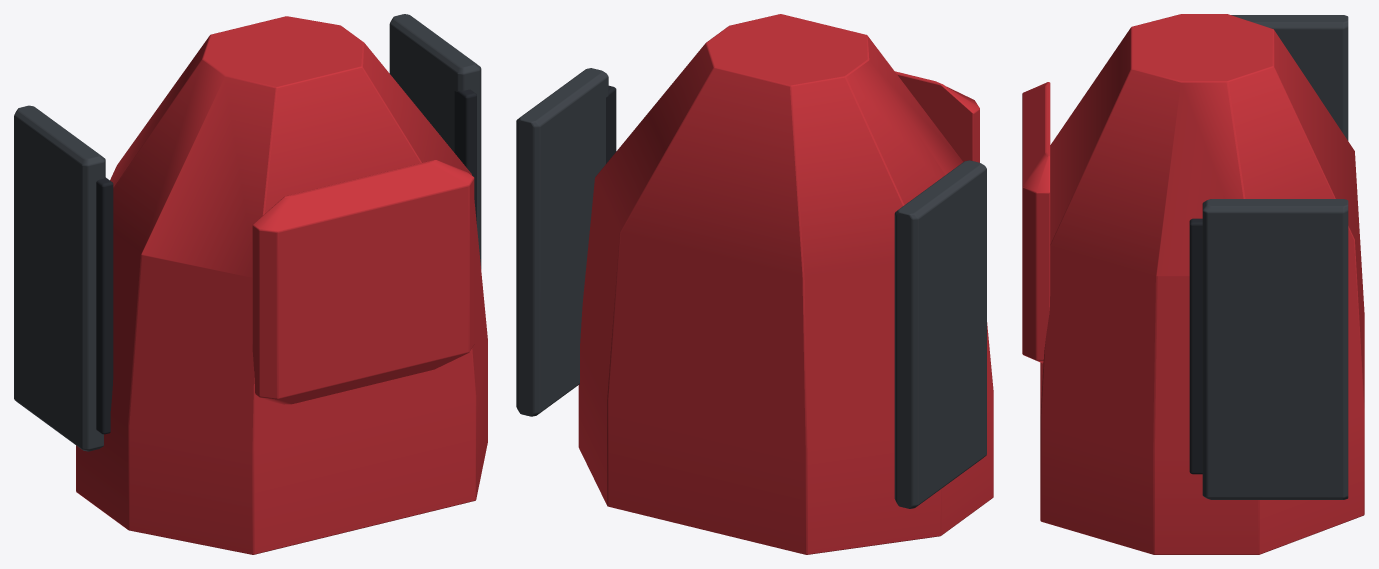
File: QuadBodyBack_Set08_Goliath.fbx
3 renders of one model, left to right at view 1: azimuth 30°, elevation 25°; view 2: azimuth 150°, elevation 25°; view 3: azimuth 270°, elevation 25°, orthographic.
Visible parts, largest first — view 1: QuadBodyBack_Set08_Goliath; view 2: QuadBodyBack_Set08_Goliath; view 3: QuadBodyBack_Set08_Goliath.
Boxes of the visible parts, box(x1,y1,x2,y2) form: QuadBodyBack_Set08_Goliath: box(14, 14, 487, 554); QuadBodyBack_Set08_Goliath: box(516, 14, 993, 554); QuadBodyBack_Set08_Goliath: box(1022, 14, 1364, 554).
Bounding box in the file's own units: 1 × 1 × 0.739.
